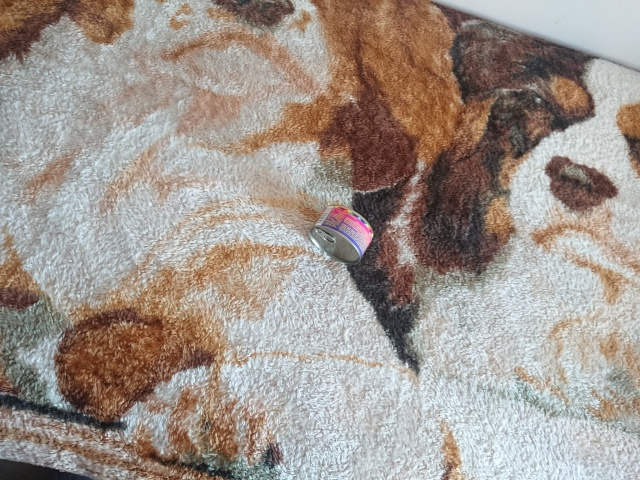Giana Tuna Salad Mexico 185g: (307, 203, 375, 268)
